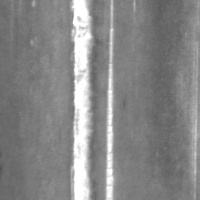scratches: (68, 0, 96, 199), (104, 0, 116, 199)
